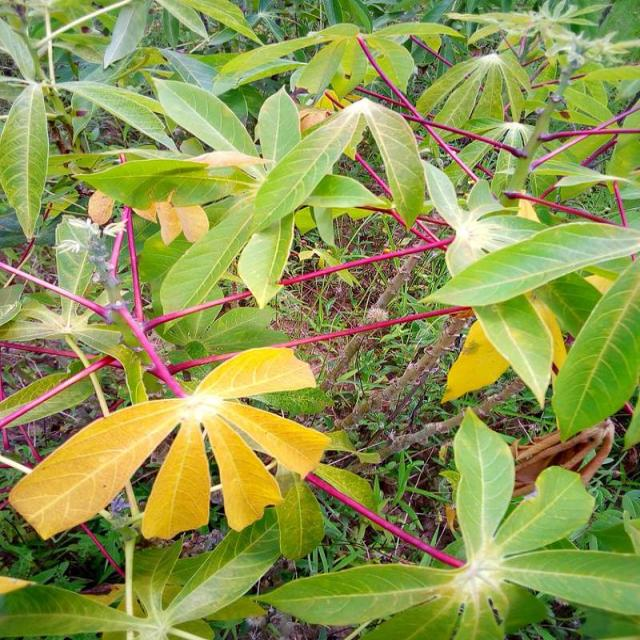cassava leaf: (253, 406, 640, 638), (10, 344, 332, 543), (1, 81, 51, 240)
